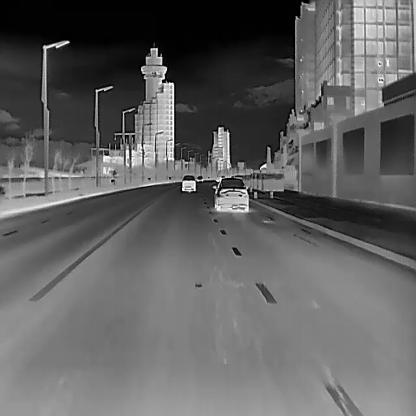car: (212, 177, 249, 211), (180, 175, 196, 191)
